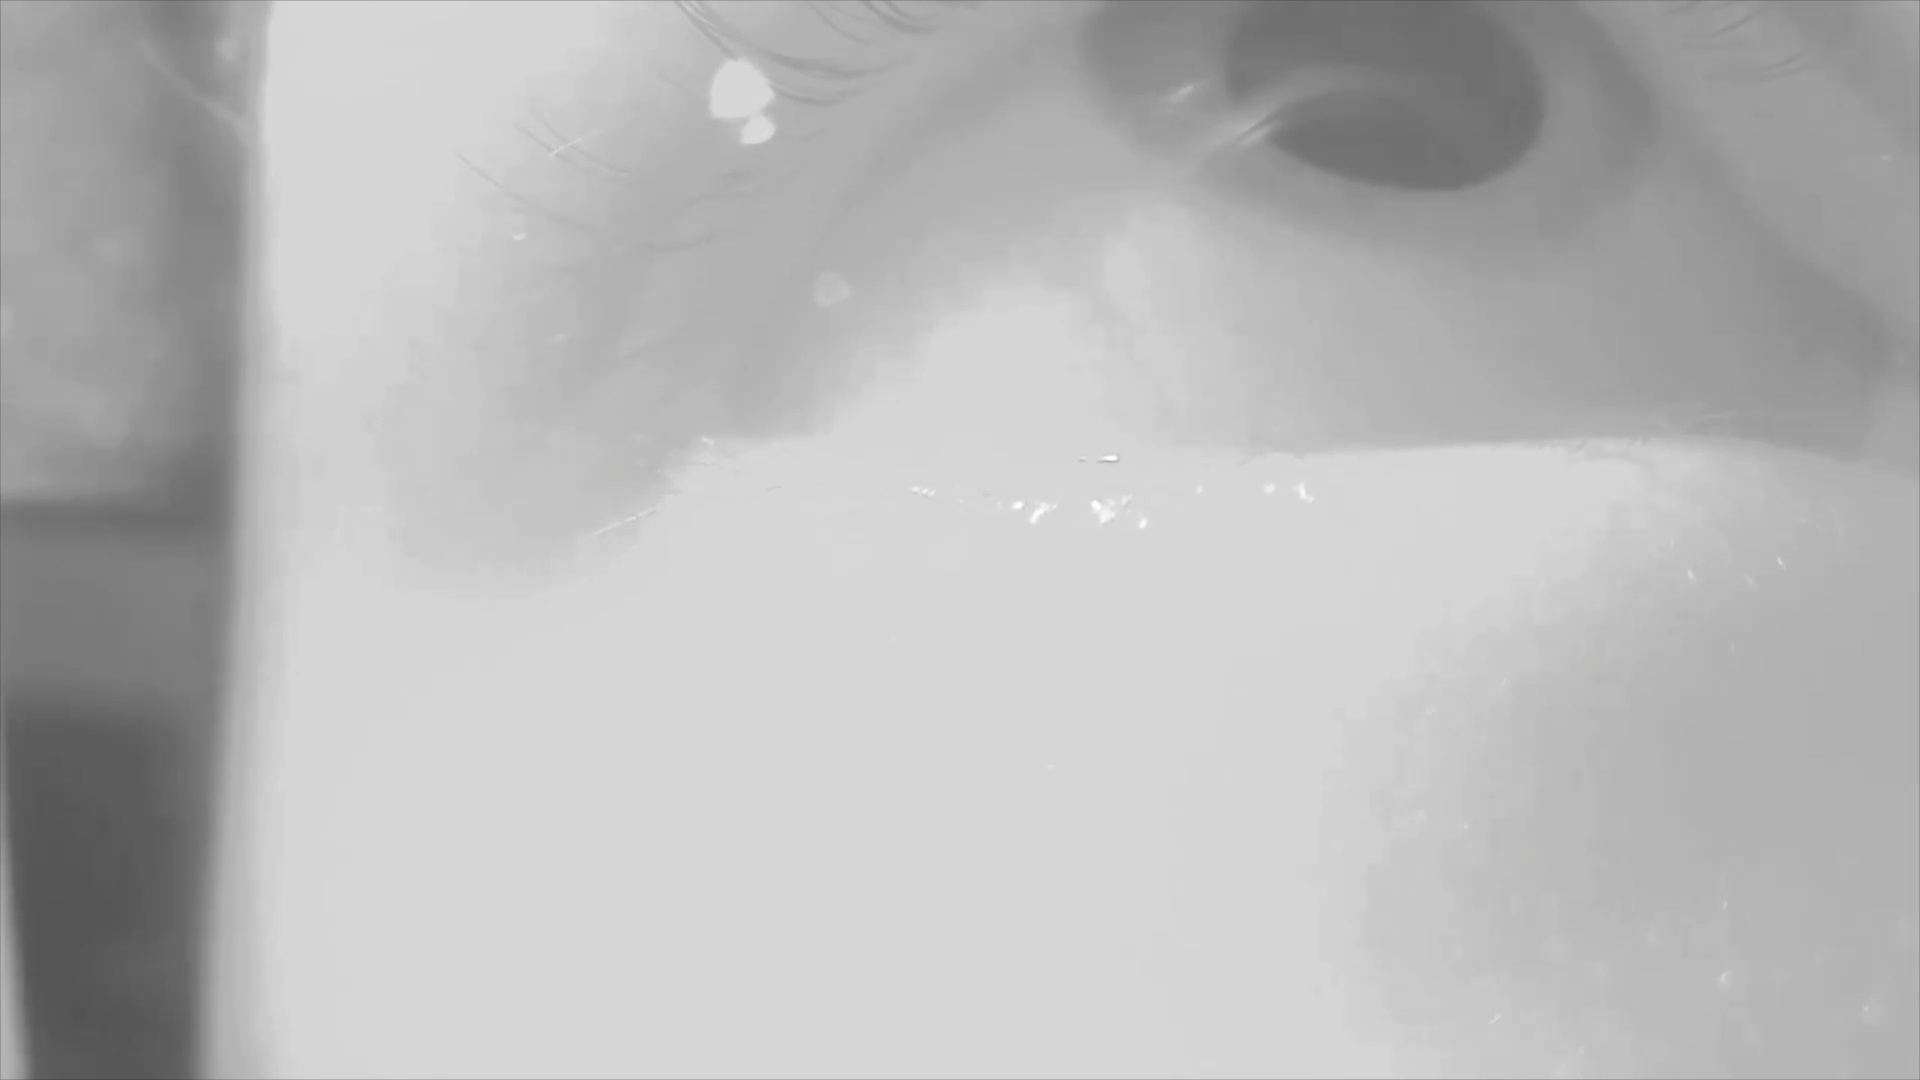pupil: (1229, 6, 1549, 193)
